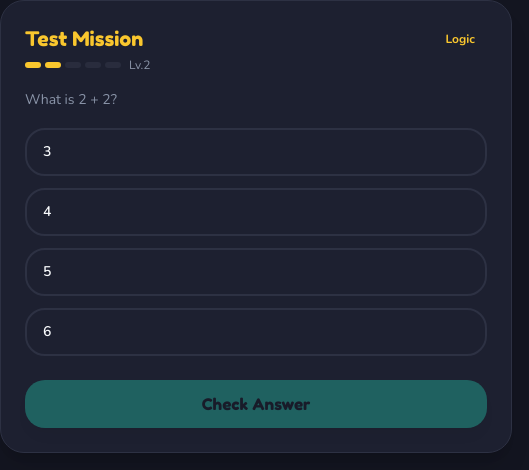
Test: MissionCard › enables submit button after selecting an option
Click the button "4" at (47, 211), box [25, 188, 487, 236]
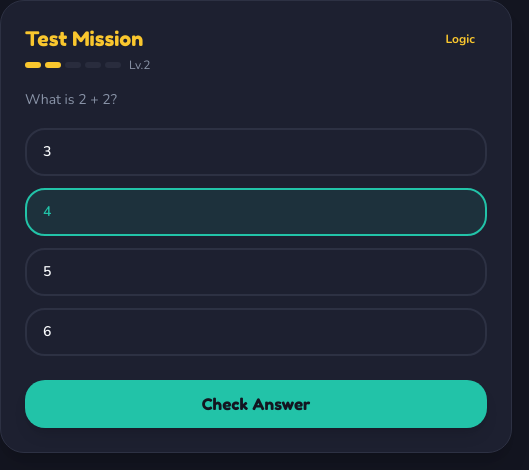
Expected: the button "Check Answer" is enabled, [25, 380, 487, 428]
